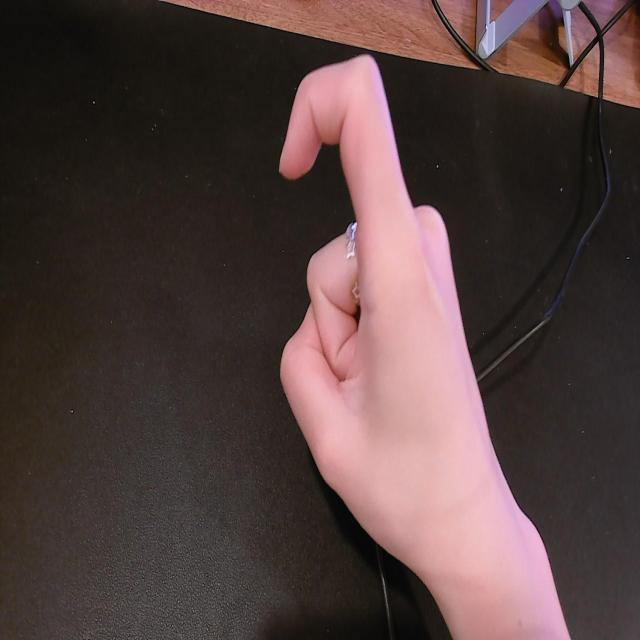X: (269, 49, 518, 578)
